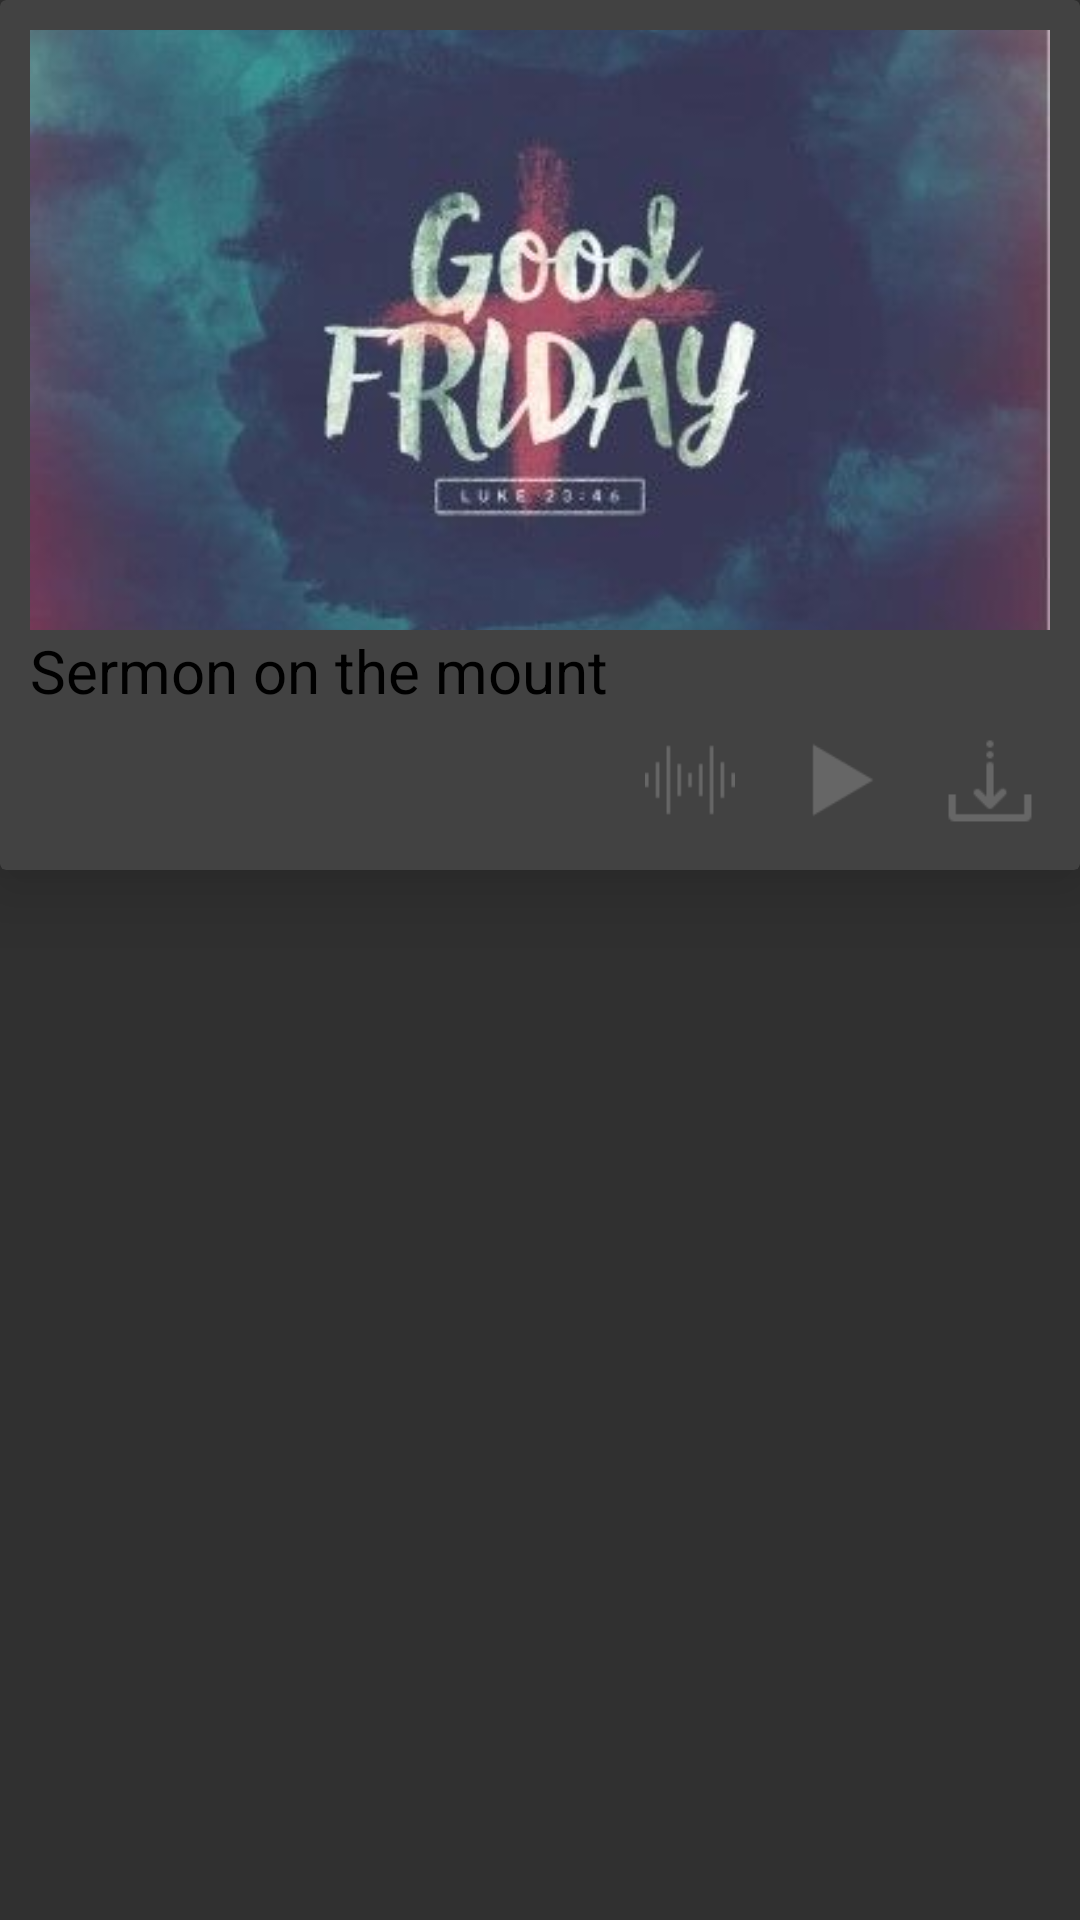

Screen size 1080x1920. Icon name, then its center in pixels as (x=x, y=y):
download: (x=990, y=781)
play: (x=842, y=780)
wave: (x=690, y=780)
